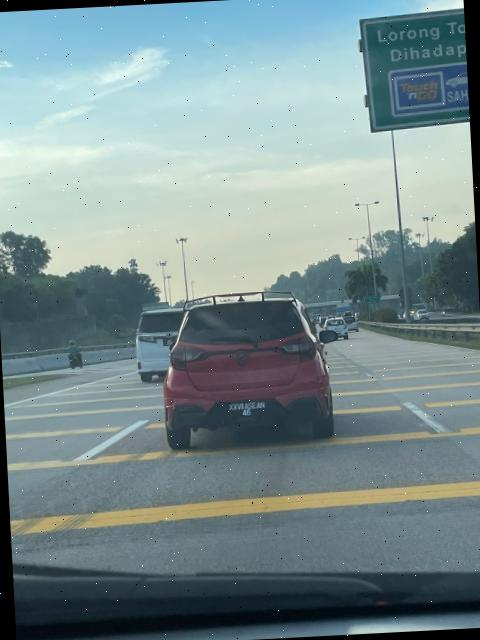License_Plate: (215, 394, 274, 426)
car: (156, 293, 341, 452)
